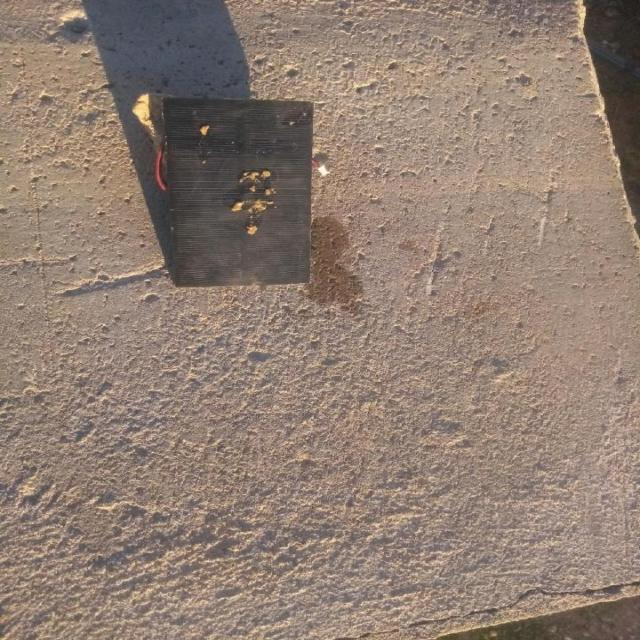faulty: (156, 97, 314, 288)
